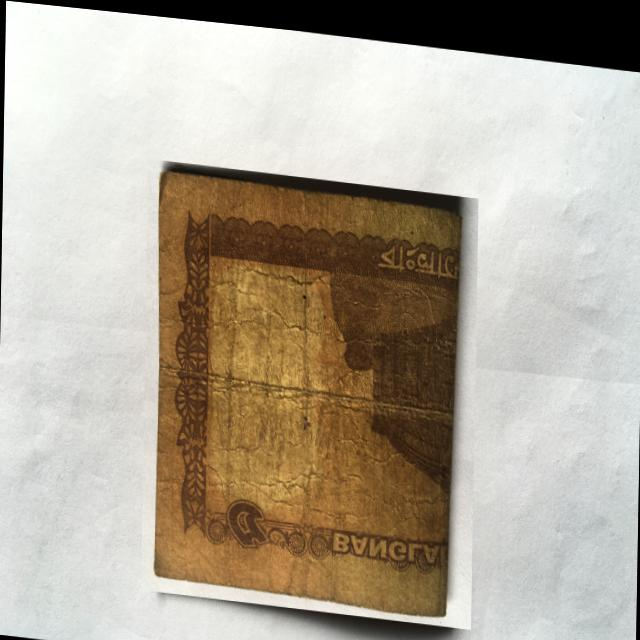Taka: (141, 155, 478, 620)
